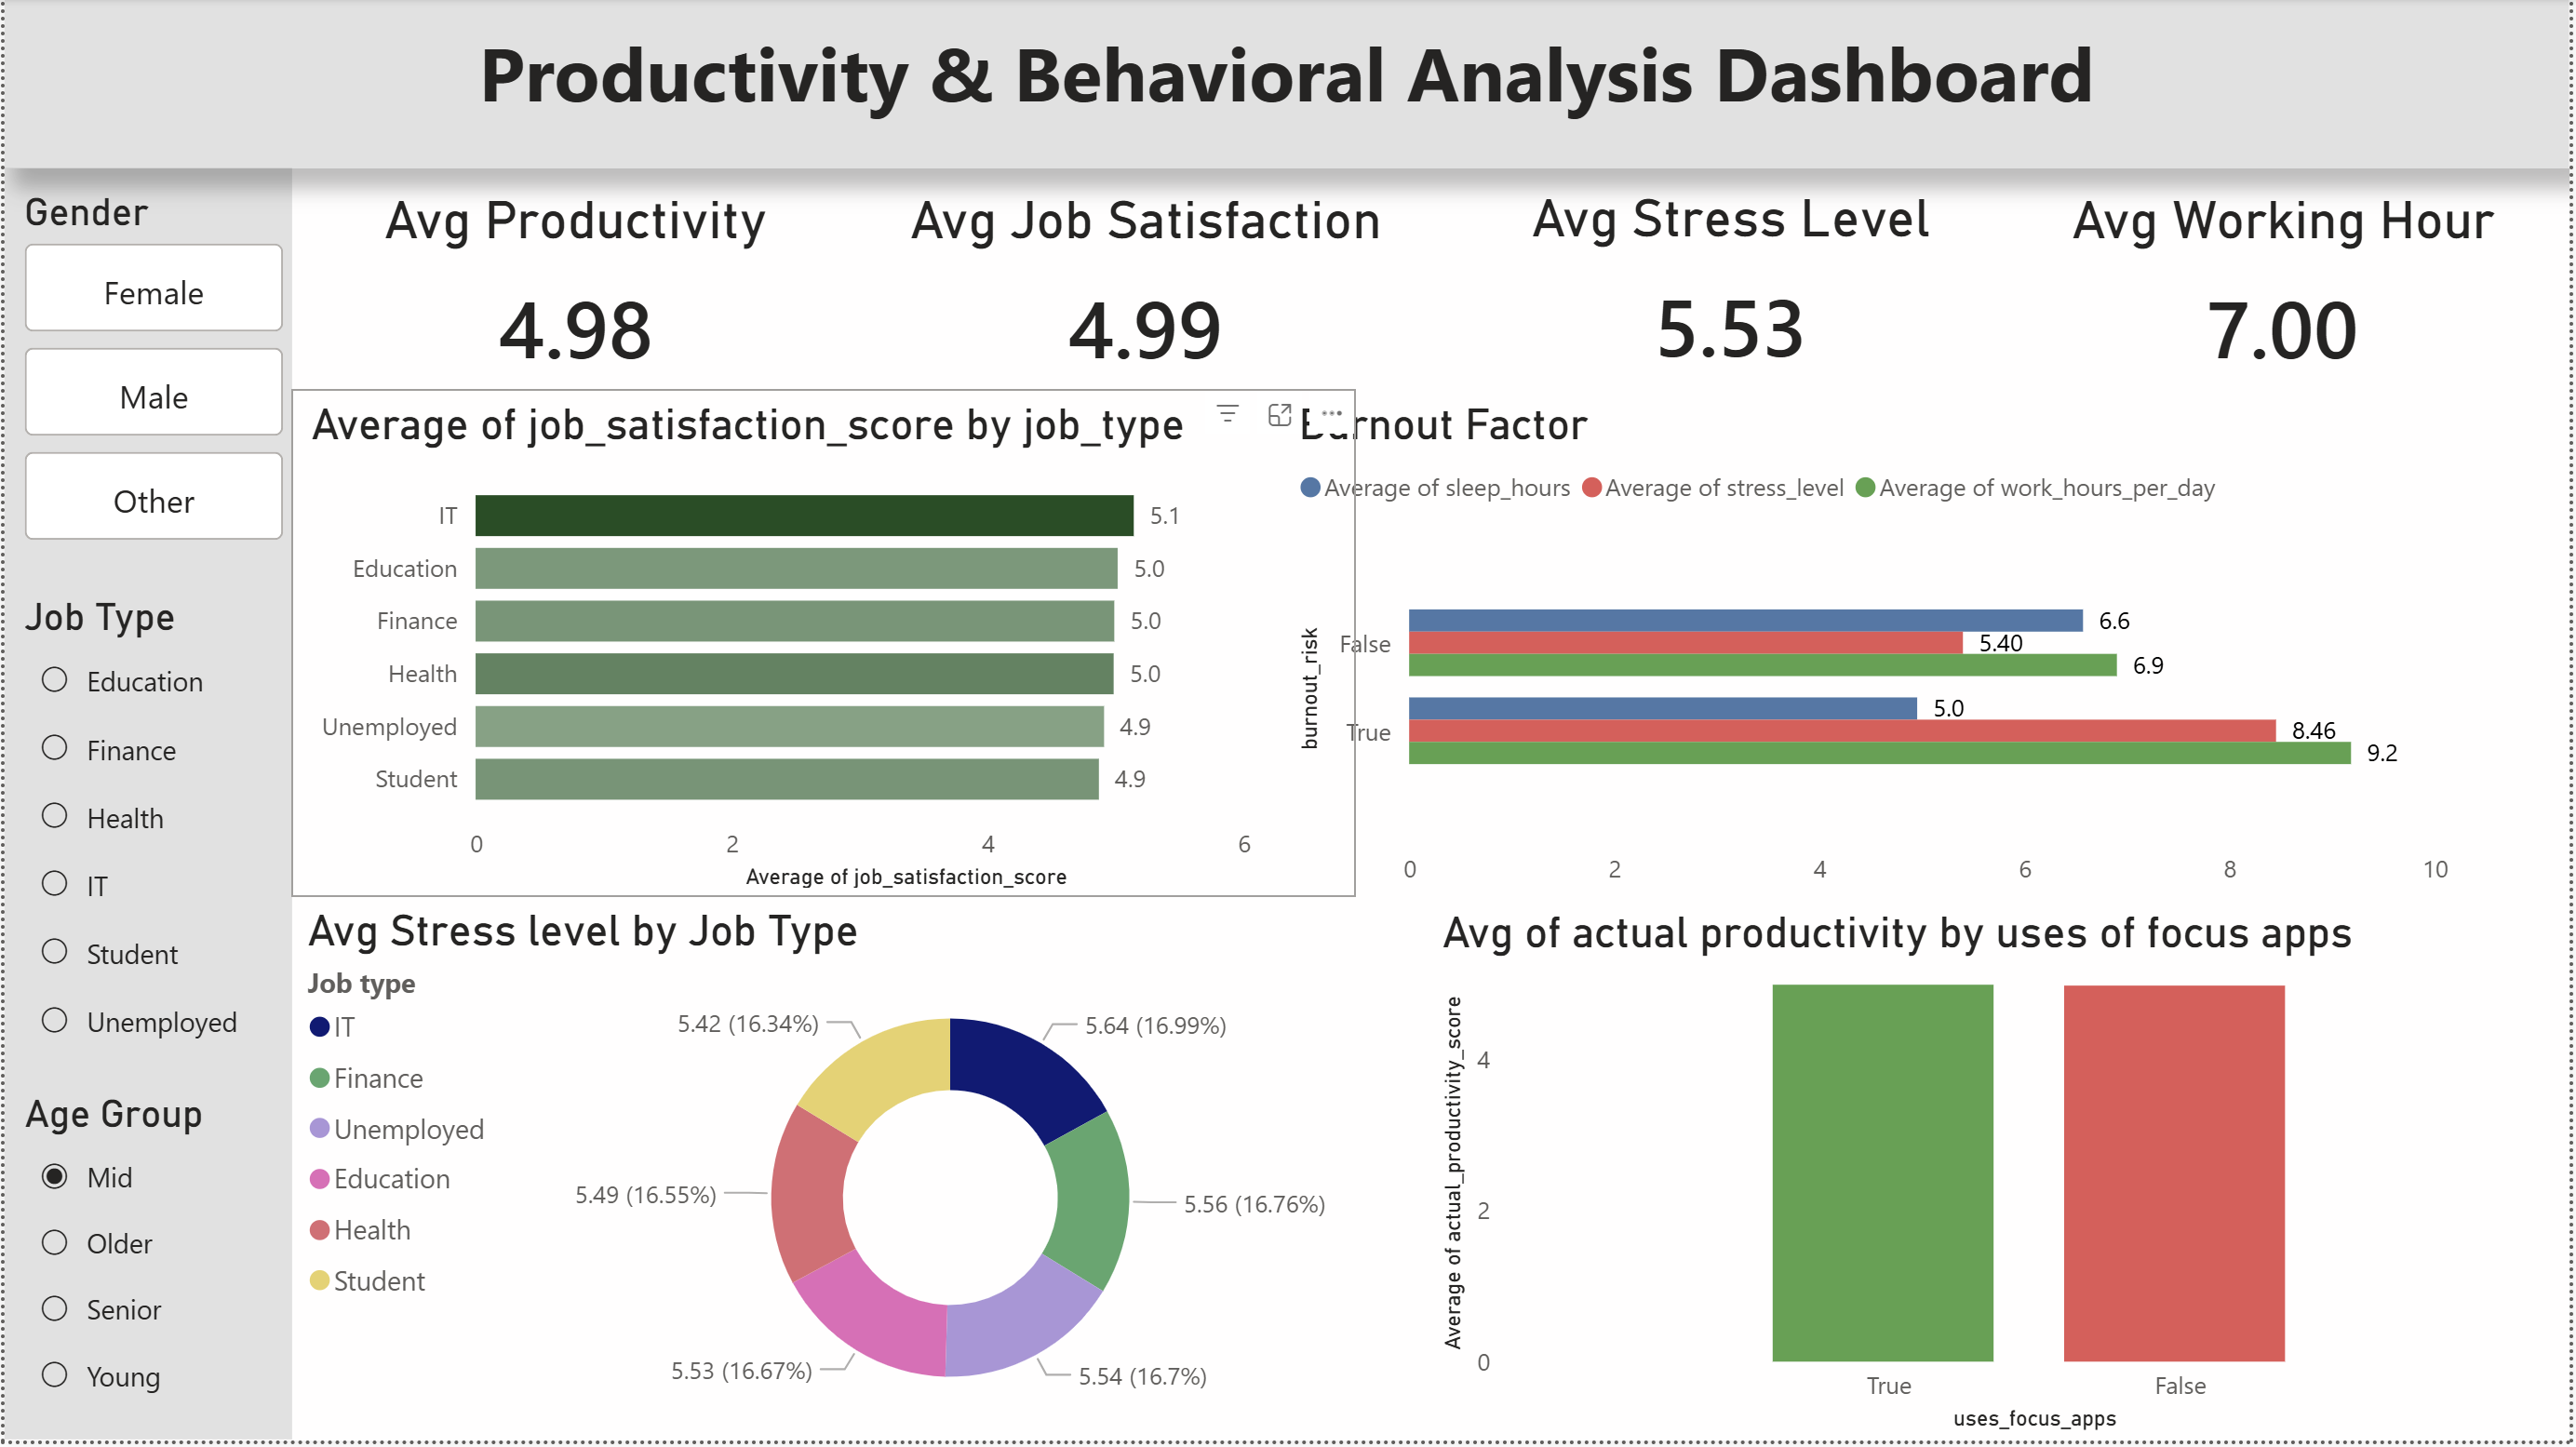

What the dashboard file says about the page in this screenshot:
{"tool":"powerbi","page":{"name":"Page 1","canvas":[1280,720],"ordinal":0},"visuals":[{"type":"shape","box":[0,84.9,143.7,634.9],"z":0},{"type":"cardVisual","title":"Avg Productivity","fields":{"Data":["Avg(cleaned_productivity_data.actual_productivity_score)"]},"box":[143.1,85.2,284,109.6],"z":1000},{"type":"cardVisual","title":"Avg Job Satisfaction","fields":{"Data":["Avg(cleaned_productivity_data.job_satisfaction_score)"]},"box":[427.7,85.2,284.6,109.6],"z":2000},{"type":"cardVisual","title":"Avg Stress Level","fields":{"Data":["Avg(cleaned_productivity_data.stress_level)"]},"box":[718.7,84.9,285.2,109.8],"z":3000},{"type":"clusteredBarChart","title":"Burnout Factor","fields":{"Category":["cleaned_productivity_data.burnout_risk"],"Y":["Avg(cleaned_productivity_data.sleep_hours)","Avg(cleaned_productivity_data.stress_level)","Avg(cleaned_productivity_data.work_hours_per_day)"]},"box":[640.8,194.8,639.2,252.7],"z":4000},{"type":"clusteredBarChart","fields":{"Category":["cleaned_productivity_data.job_type"],"Y":["Avg(cleaned_productivity_data.job_satisfaction_score)"]},"box":[143.1,194.8,531.2,254.2],"z":5000},{"type":"columnChart","title":"Avg of actual productivity by uses of focus apps","fields":{"Category":["cleaned_productivity_data.uses_focus_apps"],"Y":["Avg(cleaned_productivity_data.actual_productivity_score)"]},"box":[712.3,449,567.7,270.9],"z":6000},{"type":"donutChart","title":"Avg Stress level by Job Type","fields":{"Category":["cleaned_productivity_data.job_type"],"Y":["Avg(cleaned_productivity_data.stress_level)"]},"box":[141.5,447.5,558.6,272.4],"z":7000},{"type":"textbox","box":[0,0,1280,84.9],"z":8000},{"type":"listSlicer","title":"Age Group","fields":{"Values":["cleaned_productivity_data.age_group"]},"box":[0,545.5,141.5,159.6],"z":9000},{"type":"advancedSlicerVisual","title":"Gender","fields":{"Values":["cleaned_productivity_data.gender"]},"box":[0,85.2,144,190.2],"z":10000},{"type":"listSlicer","title":"Job Type","fields":{"Values":["cleaned_productivity_data.job_type"]},"box":[0,297.6,143.7,233.1],"z":11000},{"type":"cardVisual","title":"Avg Working Hour","fields":{"Data":["Avg(cleaned_productivity_data.work_hours_per_day)"]},"box":[995.4,85.2,284.6,109.6],"z":12000}]}

Visuals, with their boxes in screenshot pixels (x1, y1, x2, y2), scaled from the page's 1280x720 canvas onto the 2576x1447 screenshot:
shape: 0 170 289 1446
"Avg Productivity" cardVisual: 288 171 860 392
"Avg Job Satisfaction" cardVisual: 861 171 1433 392
"Avg Stress Level" cardVisual: 1446 170 2020 391
"Burnout Factor" clusteredBarChart: 1290 392 2575 899
clusteredBarChart - cleaned_productivity_data.job_type x Avg(cleaned_productivity_data.job_satisfaction_score): 288 392 1357 903
"Avg of actual productivity by uses of focus apps" columnChart: 1433 903 2575 1446
"Avg Stress level by Job Type" donutChart: 285 899 1409 1446
textbox: 0 0 2575 170
"Age Group" listSlicer: 0 1096 285 1417
"Gender" advancedSlicerVisual: 0 171 289 554
"Job Type" listSlicer: 0 598 289 1066
"Avg Working Hour" cardVisual: 2004 171 2575 392
